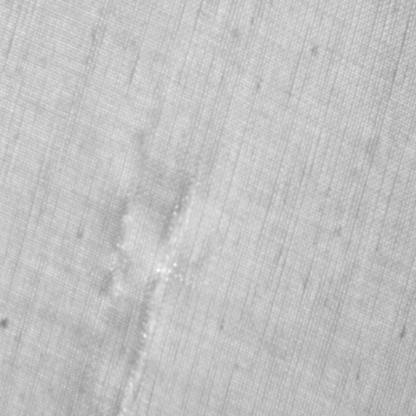thread error: (114, 159, 197, 415), (98, 176, 140, 308)
